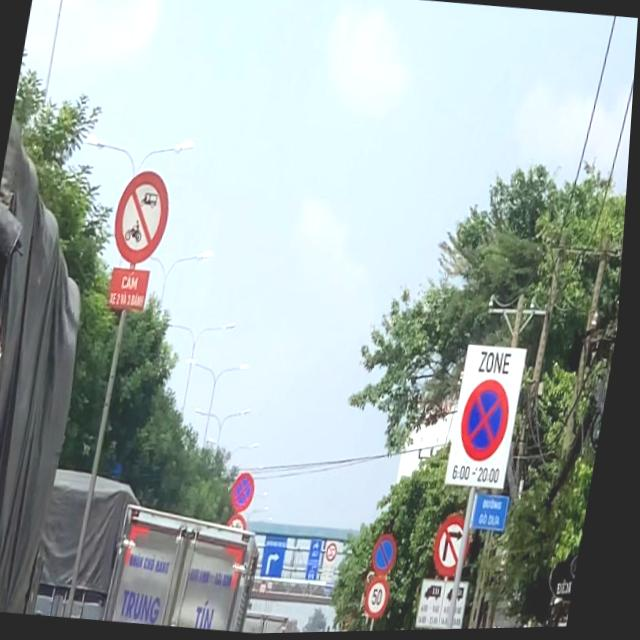Cam do xe: (376, 534, 407, 578)
Cam dung xe va do xe: (460, 377, 522, 468), (234, 471, 265, 516)
Cam re phai: (438, 510, 481, 583)
Toc do toi da cho phep: (369, 576, 399, 621)
